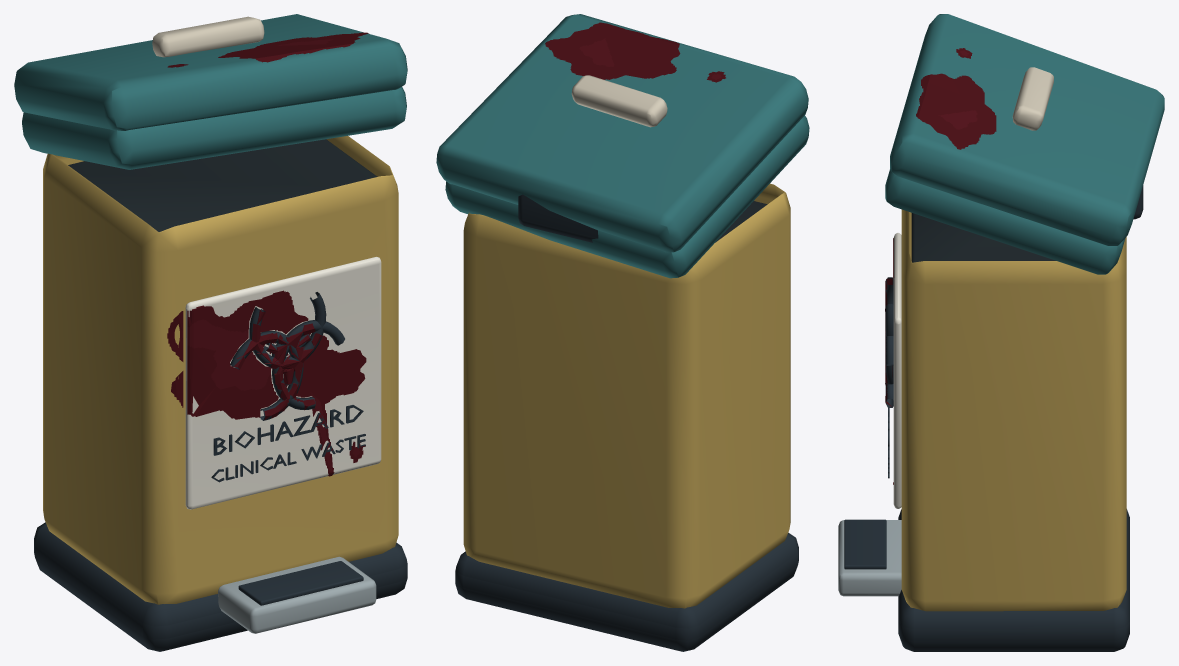
The model's file is biohazard_bin.glb.
3 views of the same model, side by side, from view 1: azimuth 30°, elevation 25°; view 2: azimuth 150°, elevation 25°; view 3: azimuth 270°, elevation 25° (orthographic). The views are drawn at different scales.
Visible parts, largest first — view 1: Outbreak_BiohazardBin_Static; view 2: Outbreak_BiohazardBin_Static; view 3: Outbreak_BiohazardBin_Static.
Part boxes in pixels (x1,y1,x2,y2): Outbreak_BiohazardBin_Static: (14,14,407,651); Outbreak_BiohazardBin_Static: (436,14,809,651); Outbreak_BiohazardBin_Static: (838,14,1164,651).
Bounding box in the file's own units: 0.3916 × 0.6896 × 0.39.
